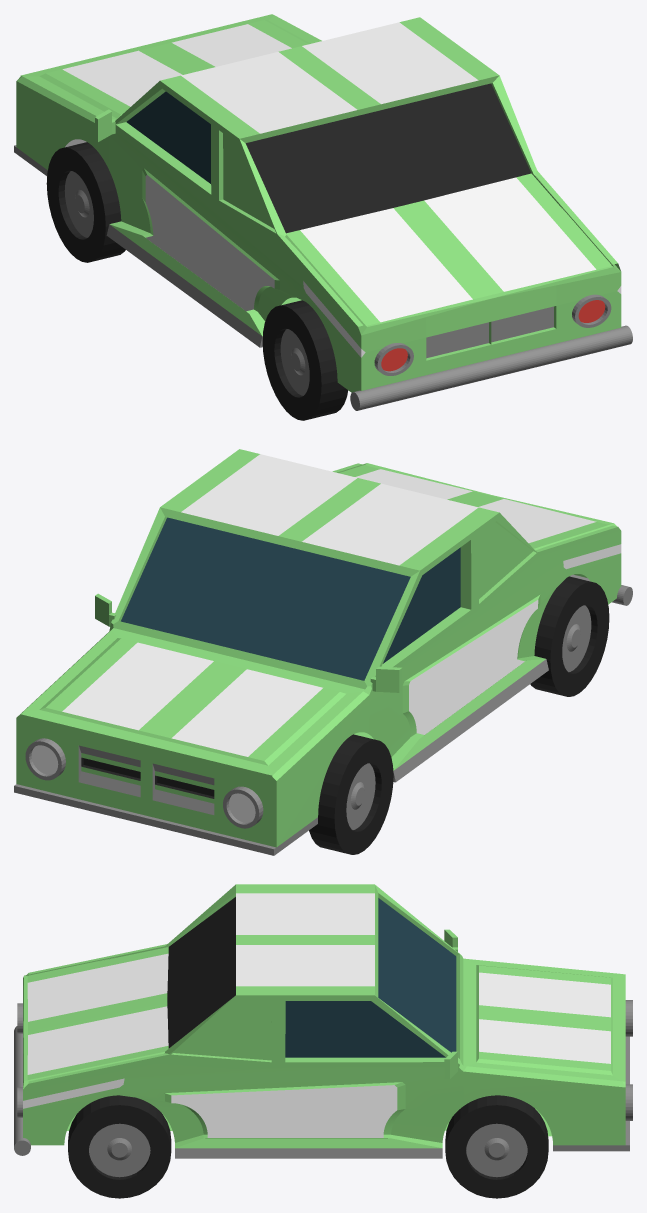
The model's file is Speed Car.fbx.
3 renders of one model, top to bottom at view 1: azimuth 30°, elevation 25°; view 2: azimuth 150°, elevation 25°; view 3: azimuth 270°, elevation 25°, orthographic. The views are drawn at different scales.
Visible parts, largest first — view 1: Cube, Cylinder.001, Cylinder.003, Cube.001, Cylinder.004; view 2: Cube, Cylinder.003, Cylinder.001, Cylinder.002; view 3: Cube, Cylinder.003, Cylinder.001, Cube.001, Cylinder.002.
Boxes of the visible parts, bbox=[...] form: Cube: bbox=[14, 14, 621, 392]; Cylinder.001: bbox=[262, 300, 348, 420]; Cylinder.003: bbox=[46, 142, 125, 262]; Cube.001: bbox=[350, 325, 632, 410]; Cylinder.004: bbox=[374, 294, 611, 375]; Cube: bbox=[14, 449, 621, 855]; Cylinder.003: bbox=[309, 734, 393, 854]; Cylinder.001: bbox=[530, 576, 609, 696]; Cylinder.002: bbox=[25, 738, 263, 828]; Cube: bbox=[23, 884, 629, 1158]; Cylinder.003: bbox=[445, 1095, 548, 1198]; Cylinder.001: bbox=[68, 1095, 171, 1198]; Cube.001: bbox=[14, 1026, 30, 1155]; Cylinder.002: bbox=[625, 1000, 632, 1120].
Size of the model in its own units: 143 by 102 by 289.
